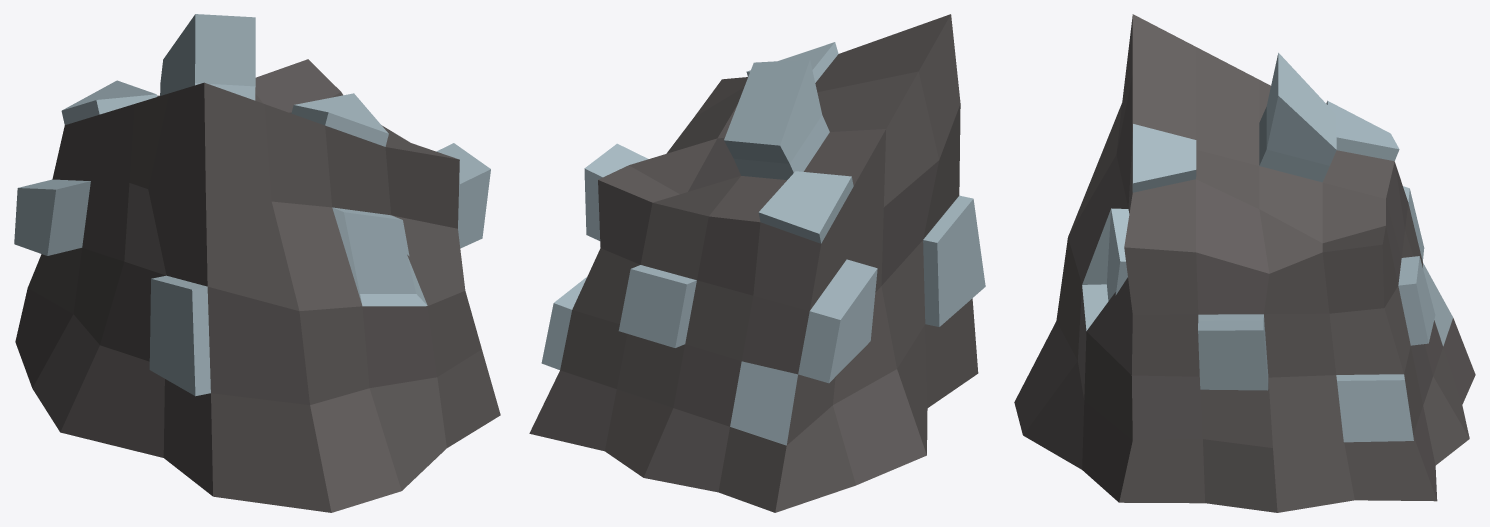
Rendered from ore vein.gltf.
3 renders of one model, left to right at view 1: azimuth 30°, elevation 25°; view 2: azimuth 150°, elevation 25°; view 3: azimuth 270°, elevation 25°, orthographic. The views are drawn at different scales.
Parts seen in each view (by area): view 1: Cube; view 2: Cube; view 3: Cube.
Boxes of the visible parts, x1=… form: Cube: x1=14, y1=14, x2=500, y2=512; Cube: x1=529, y1=14, x2=985, y2=512; Cube: x1=1014, y1=14, x2=1475, y2=512.
Bounding box in the file's own units: 4.14 × 4.12 × 4.77.
